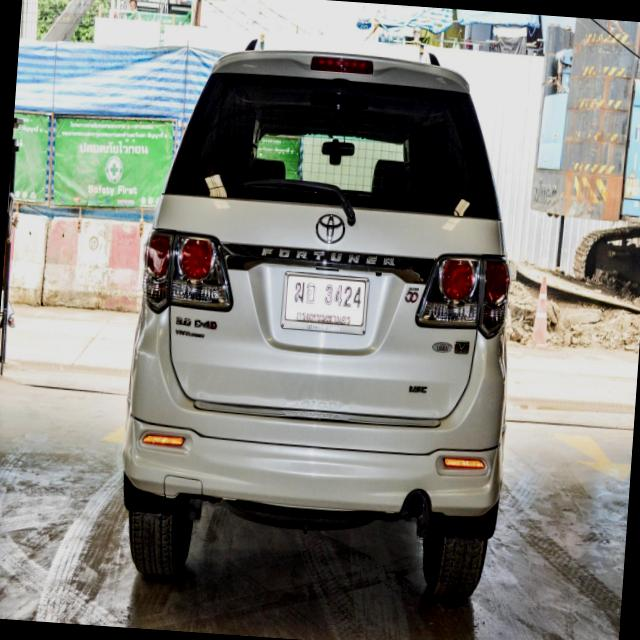license_plate: (278, 269, 368, 342)
